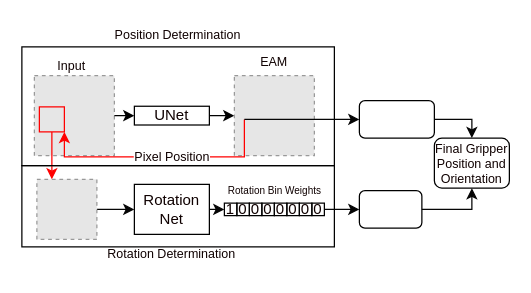
Image size: 531x293. Some labels were removed from this diagram. Grey dashed boxes stand in for pictures. Here are the shapes that lost their labels. From the top down, the box of each, then its label:
(358, 99, 434, 138): Workspace Position
(358, 189, 422, 228): Output Rotation
